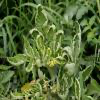Tomato leaf yellow virus: (36, 2, 48, 38), (52, 27, 66, 53), (5, 52, 29, 67), (29, 27, 45, 48), (23, 37, 35, 58), (46, 23, 57, 44), (73, 78, 81, 99), (54, 56, 68, 64), (46, 48, 51, 59)
